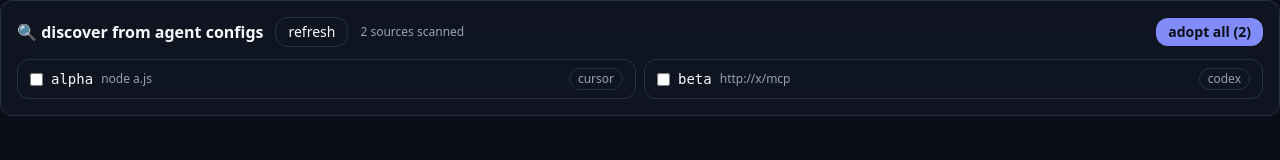
B1: adopt all › imports every fresh candidate with one click
Expected: the text "alpha" is shown, [51, 69, 93, 89]
Click the button "adopt all (2)" at (1210, 32), box [1156, 18, 1263, 46]
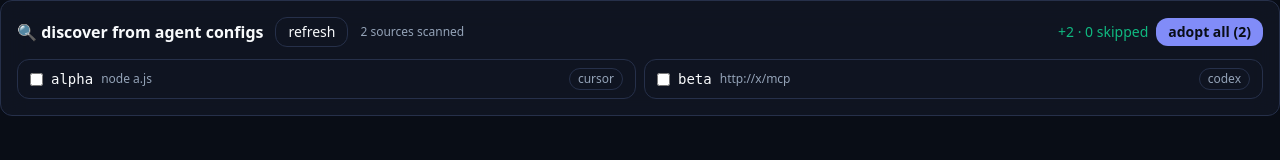
Now the text "+2 · 0 skipped" is shown, box [1058, 22, 1148, 42]
